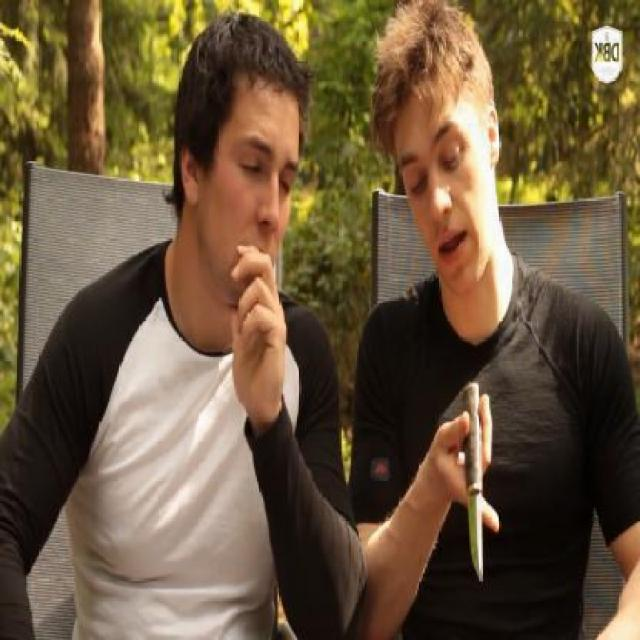knife: (440, 370, 512, 592)
